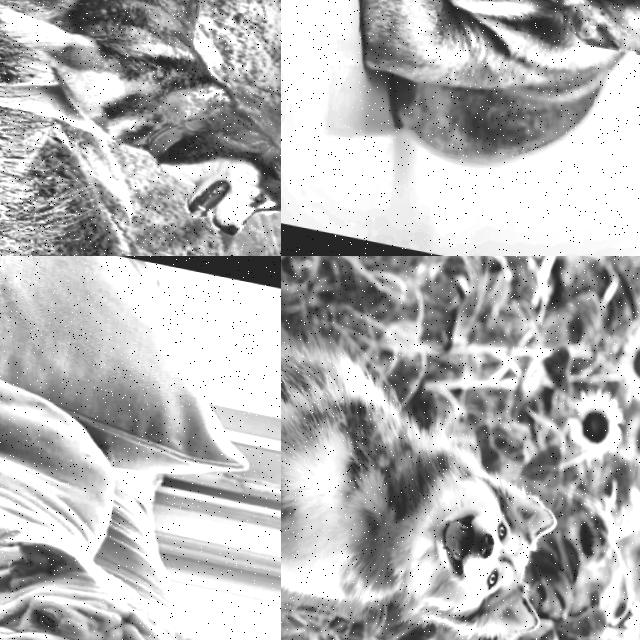bulldog: (0, 497, 266, 640), (298, 0, 640, 111)
husky: (348, 406, 593, 640), (121, 93, 281, 256)
